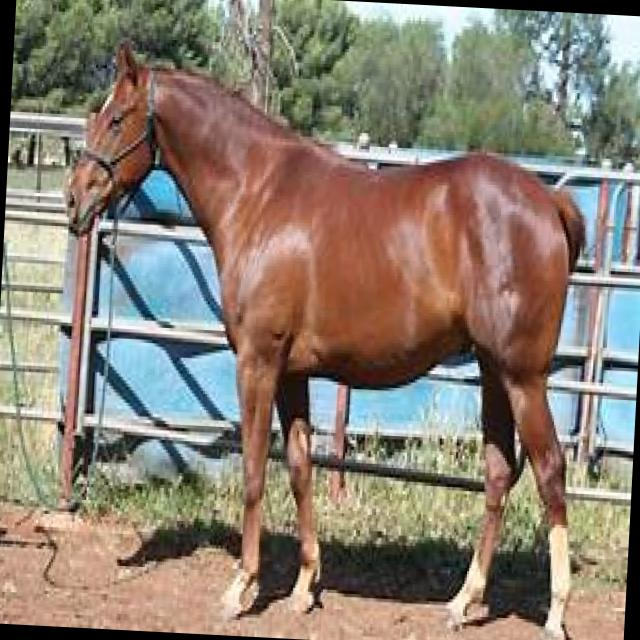horse: (46, 39, 596, 640)
